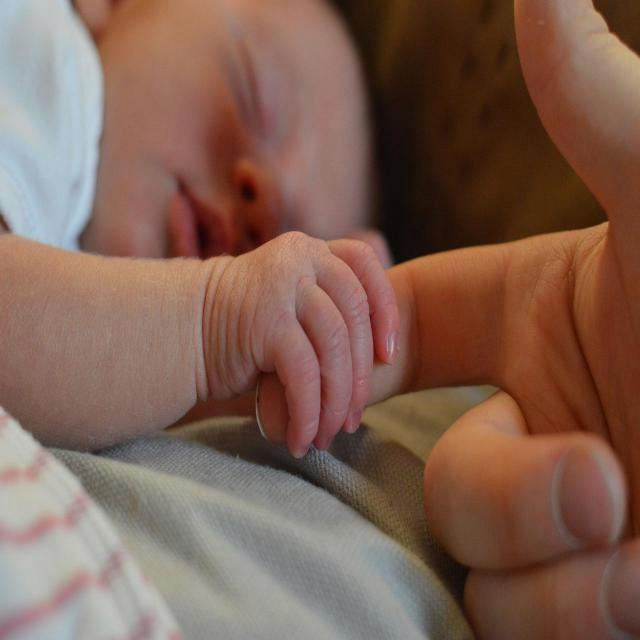child: (1, 3, 399, 461)
